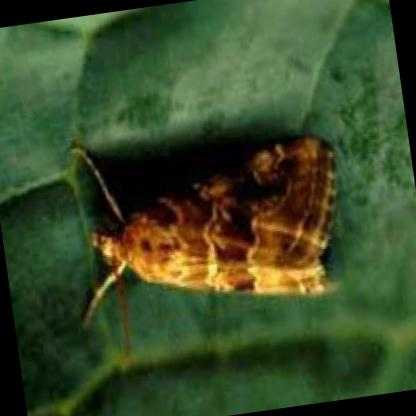Leaf Webber: (76, 130, 344, 324)
